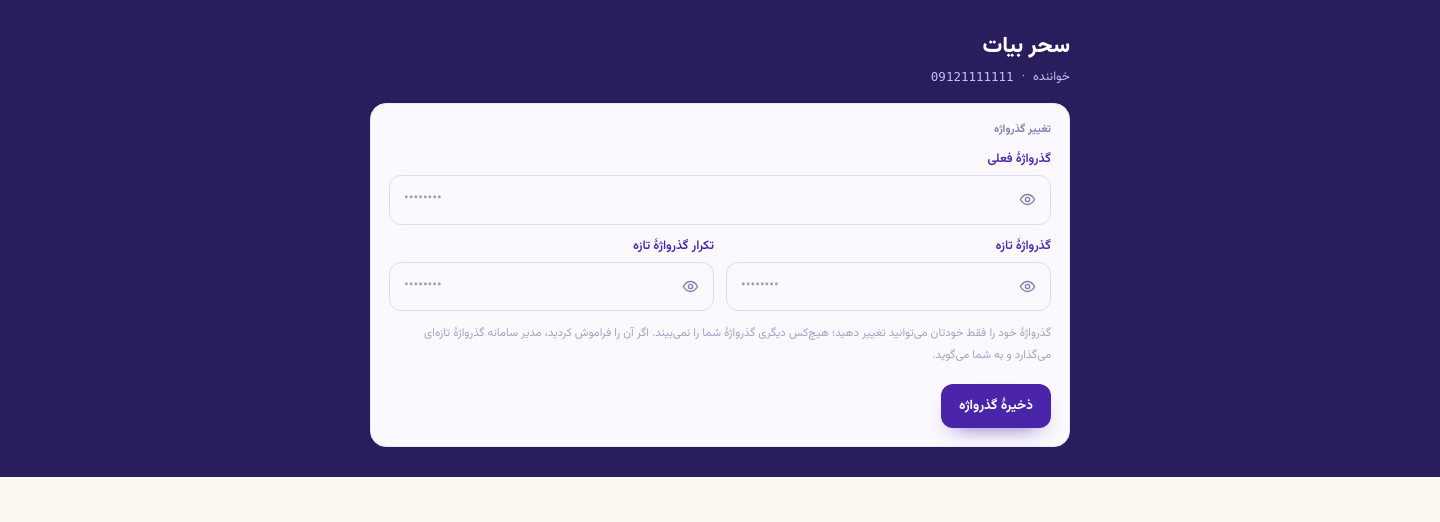
Test: changing your own password › repeats the server's sentence when the current password is wrong, and claims no success
In the password field labelled "گذرواژهٔ فعلی": (720, 200) [389,175,1051,225], type "oldpass-aaa"
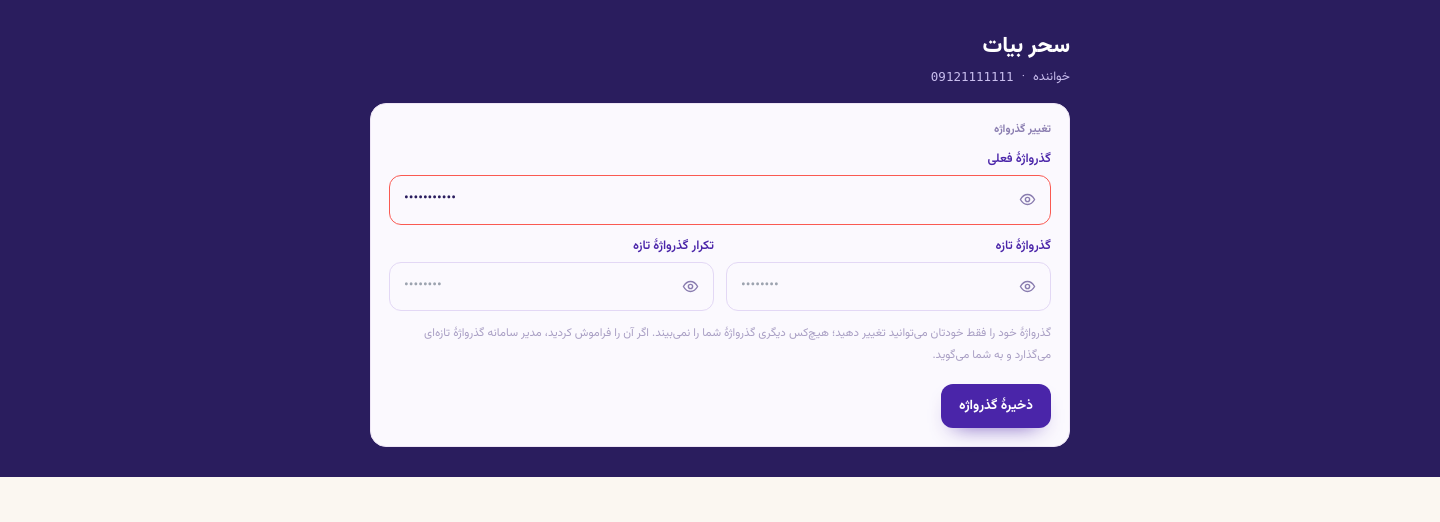
In the password field labelled "گذرواژهٔ تازه": (888, 286) [726,262,1051,311], type "newpass-zzz"
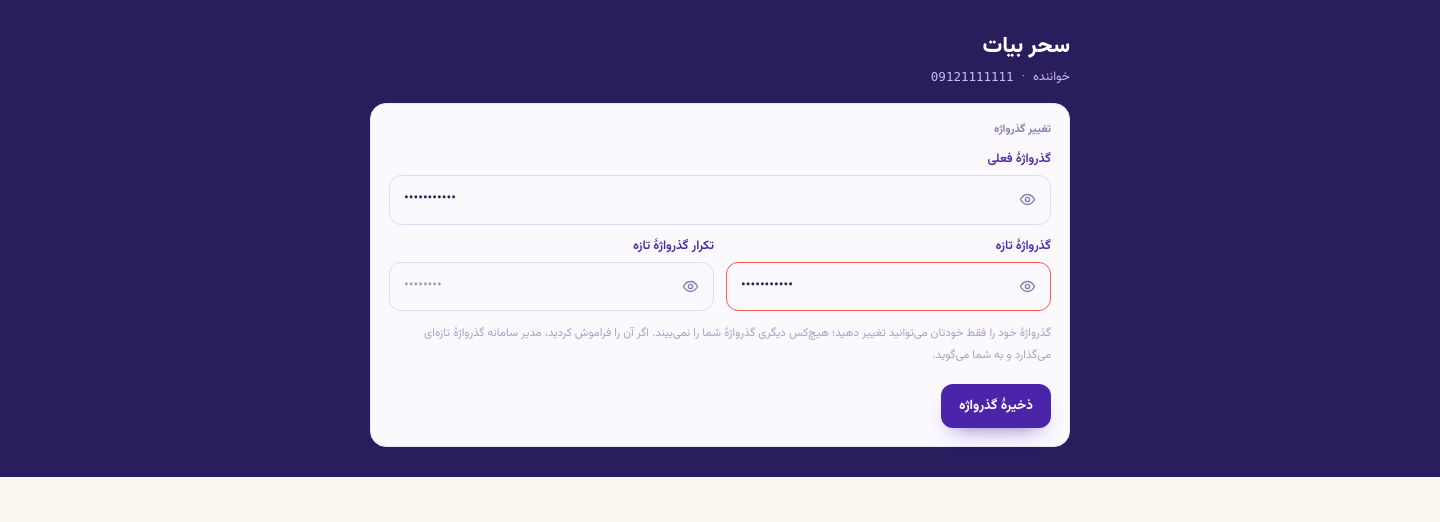
In the password field labelled "تکرار گذرواژهٔ تازه": (552, 286) [389,262,714,311], type "newpass-zzz"
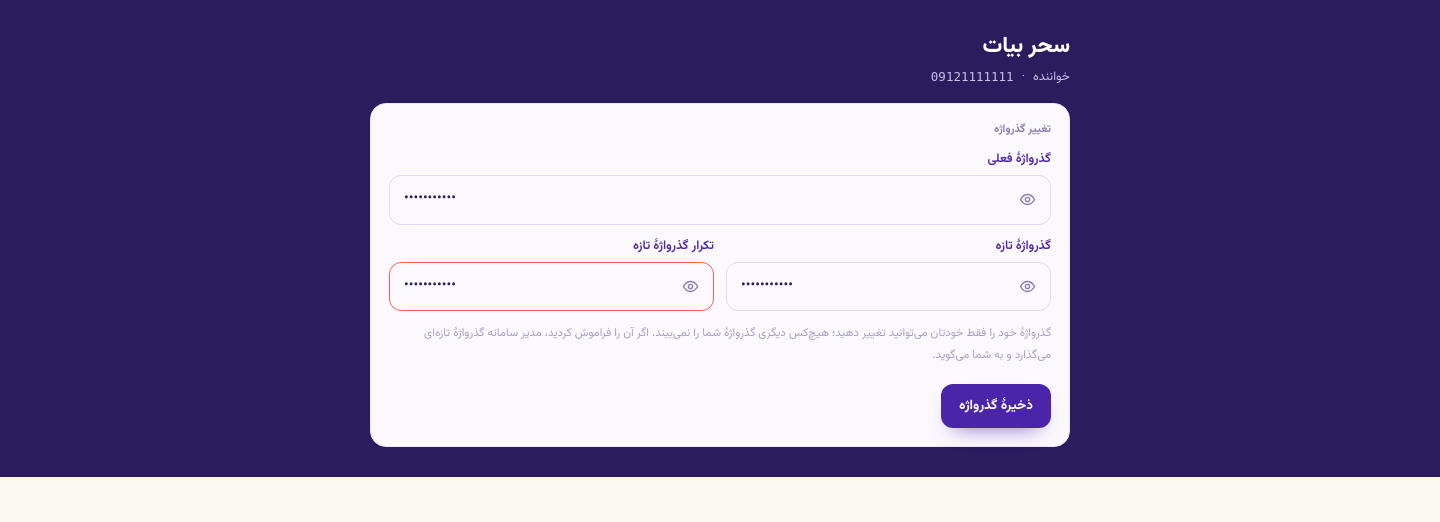
Click the button "ذخیرهٔ گذرواژه": (996, 406) [941,384,1051,428]
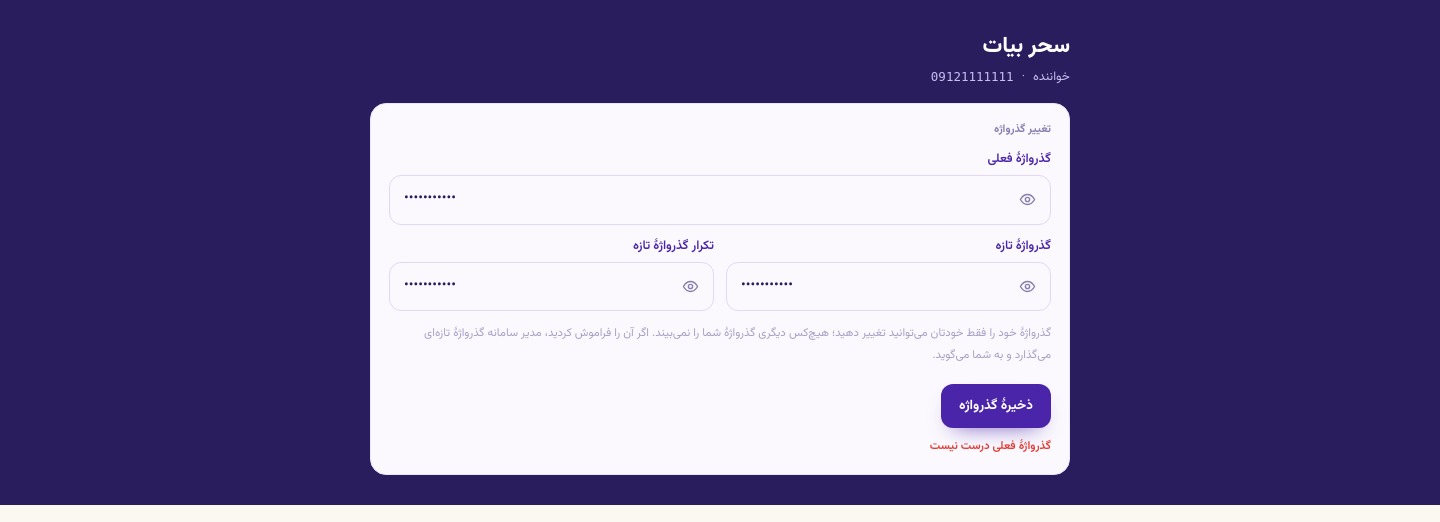
Expected: the message reads "گذرواژهٔ فعلی درست نیست", [930,437,1051,455]
